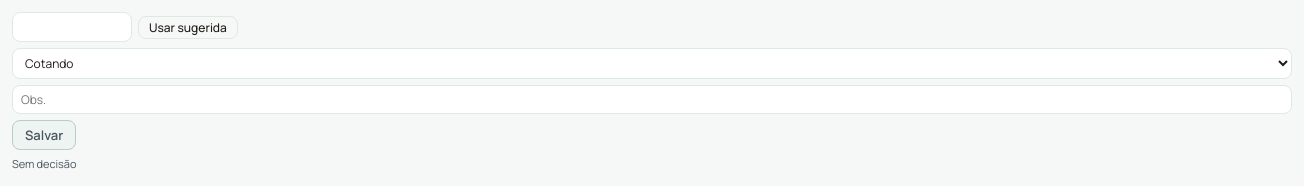
Scenario: ForecastDecisaoCompra (celula) › Salvar fica desabilitado sem mudanca e o status inicial e o congelado do item
Expected: the button with aria-label "Salvar decisão" is disabled, [12, 120, 76, 150]
Expected: the dropdown named "Status da decisão de PRODUTO 001" shows "Cotando", [12, 48, 1292, 79]
Type "10" into the field named "Qtd. decidida (kg) de PRODUTO 001" at (72, 27), box [12, 12, 132, 42]
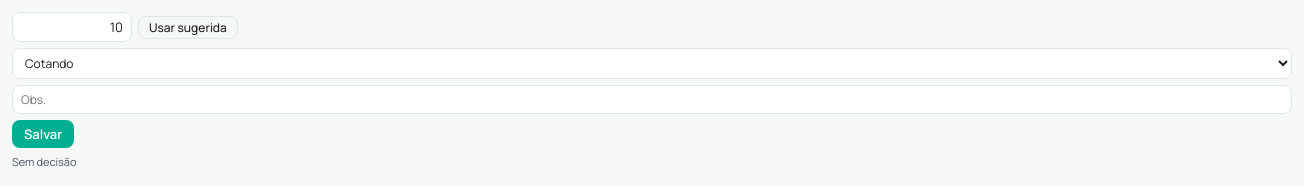
Expected: the button with aria-label "Salvar decisão" is enabled, [12, 120, 74, 148]
